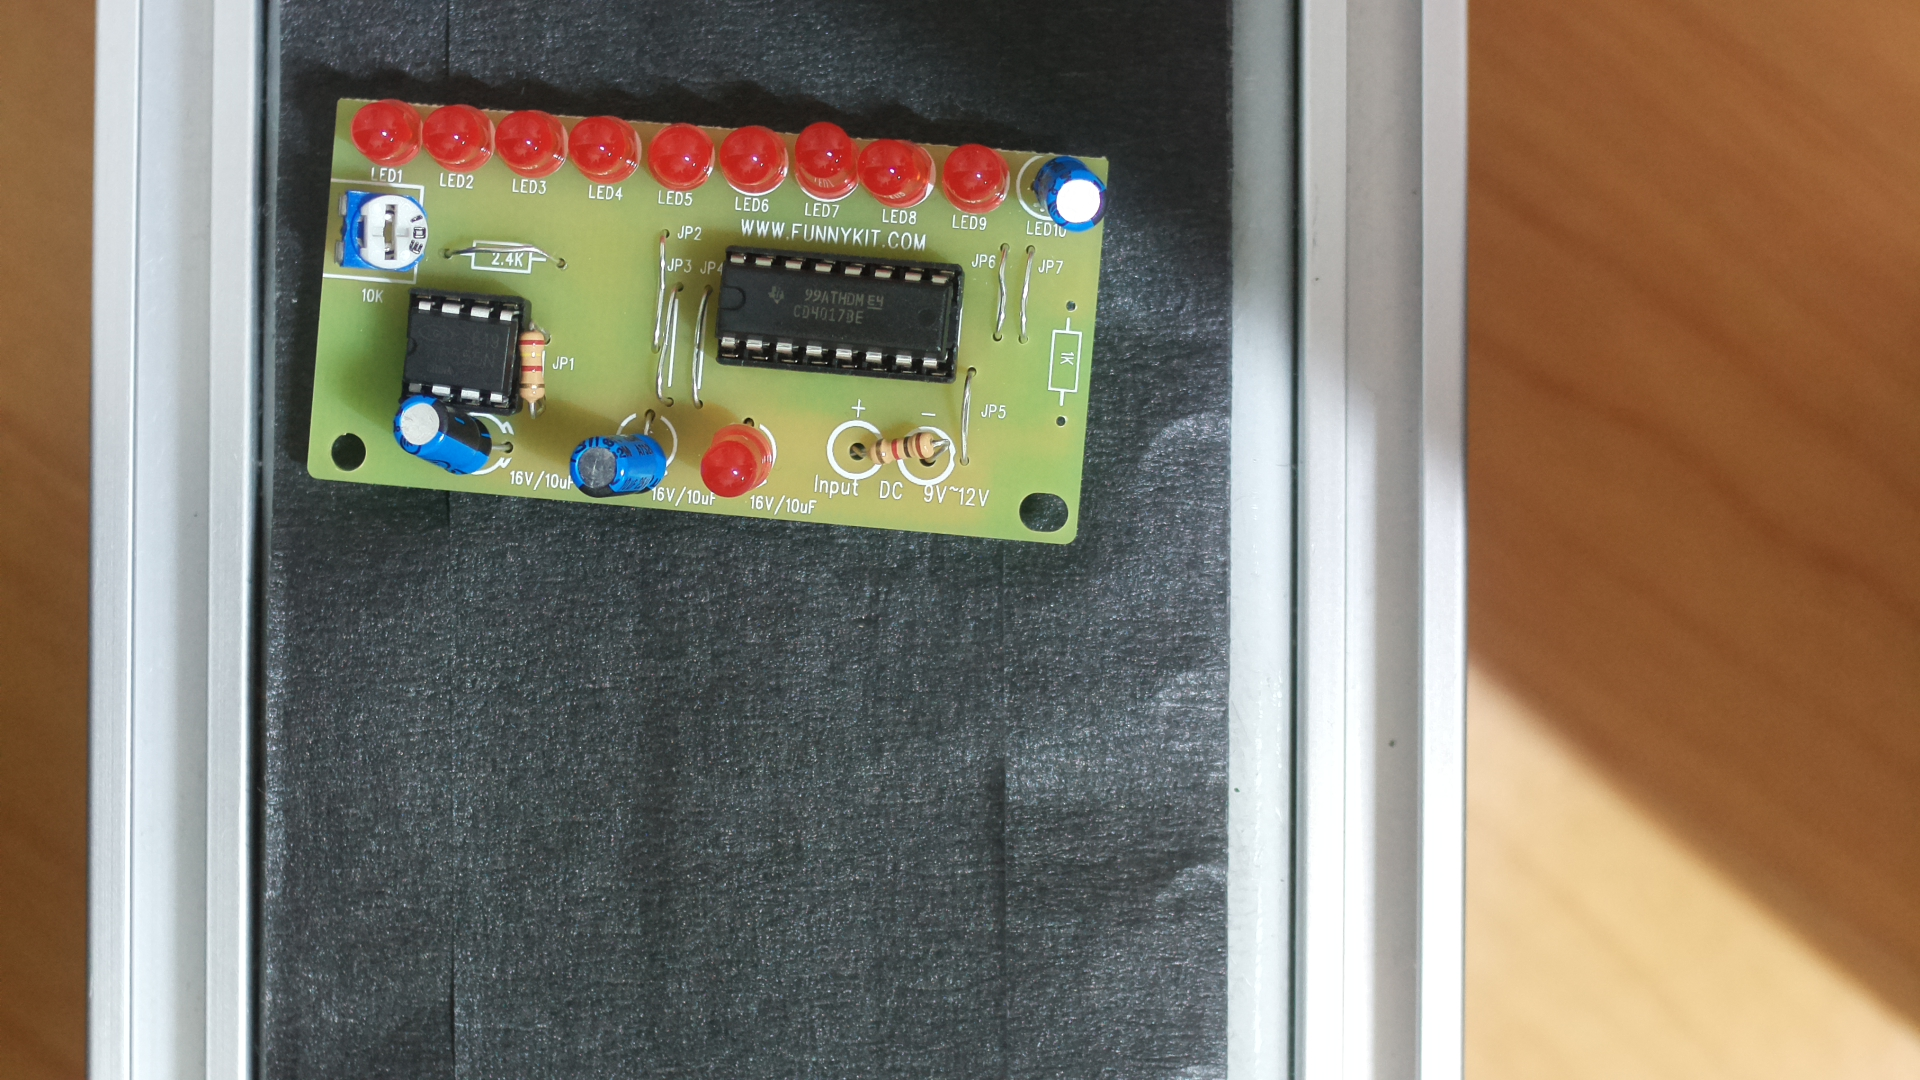B_Misordered: (303, 65, 1126, 578)
